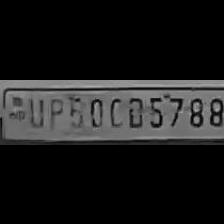0: (86, 93, 104, 127)
5: (64, 92, 84, 128), (144, 92, 164, 126)
7: (164, 92, 184, 126)
8: (184, 92, 204, 128), (205, 92, 223, 126)
C: (105, 92, 123, 128)
D: (124, 92, 144, 128)
P: (44, 92, 64, 128)
U: (25, 93, 45, 127)
